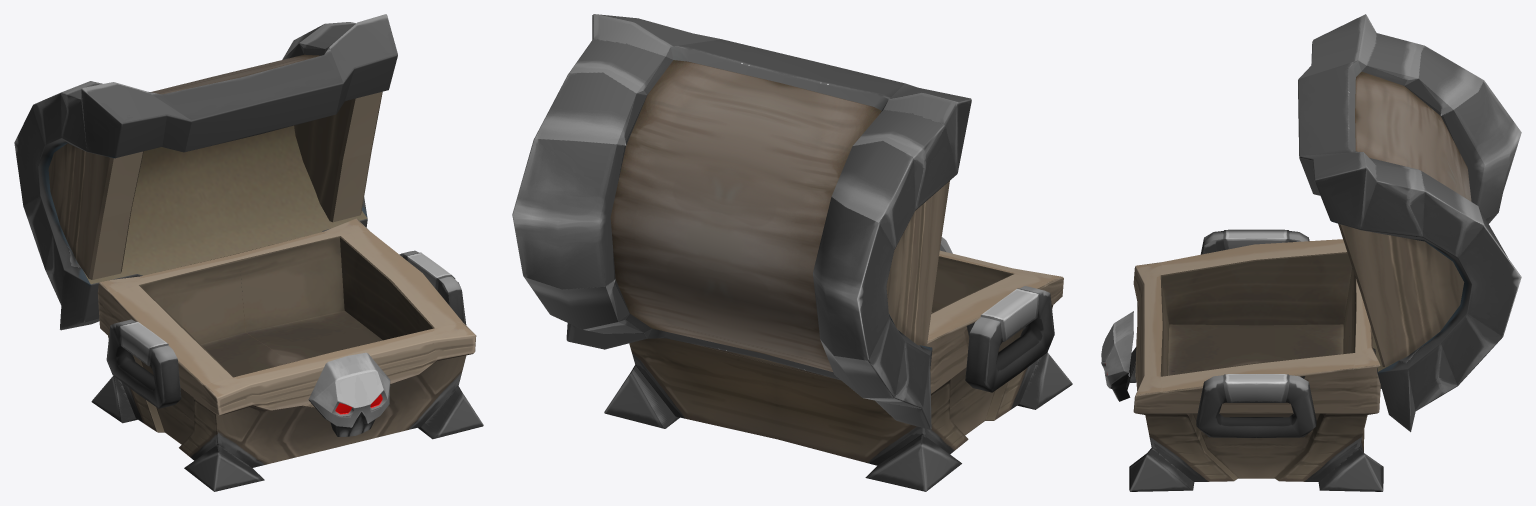
Rendered from ChestOnly.fbx.
3 views of the same model, side by side, from view 1: azimuth 30°, elevation 25°; view 2: azimuth 150°, elevation 25°; view 3: azimuth 270°, elevation 25° (orthographic). The views are drawn at different scales.
Parts seen in each view (by area): view 1: polySurface7, polySurface4, polySurface2, polySurface3, polySurface1, polySurface5, polySurface6; view 2: polySurface4, polySurface7, polySurface5, polySurface2; view 3: polySurface7, polySurface4, polySurface3, polySurface6, polySurface1, polySurface5.
Part boxes in pixels (bbox=[...]): polySurface7: bbox=[91, 218, 483, 491]; polySurface4: bbox=[14, 14, 397, 330]; polySurface2: bbox=[48, 143, 143, 279]; polySurface3: bbox=[294, 92, 382, 222]; polySurface1: bbox=[308, 352, 390, 436]; polySurface5: bbox=[106, 319, 181, 408]; polySurface6: bbox=[399, 250, 466, 324]; polySurface4: bbox=[512, 14, 971, 429]; polySurface7: bbox=[604, 250, 1072, 491]; polySurface5: bbox=[965, 286, 1054, 392]; polySurface2: bbox=[886, 181, 949, 346]; polySurface7: bbox=[1129, 239, 1383, 491]; polySurface4: bbox=[1298, 14, 1521, 432]; polySurface3: bbox=[1338, 223, 1464, 366]; polySurface6: bbox=[1196, 374, 1316, 437]; polySurface1: bbox=[1101, 311, 1133, 401]; polySurface5: bbox=[1200, 229, 1309, 254].
Size of the model in its own units: 5.47 by 5.57 by 6.33.
